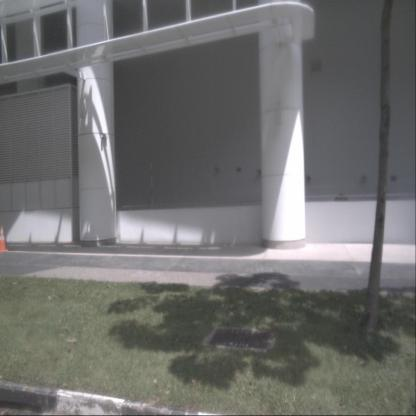movable_object-trafficcone: (0, 225, 9, 253)
